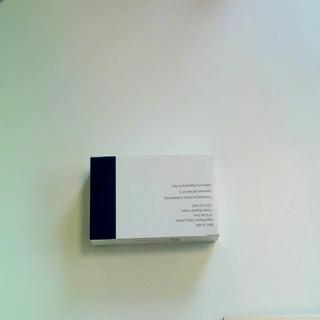ultiva5mg: (89, 153, 221, 249)
